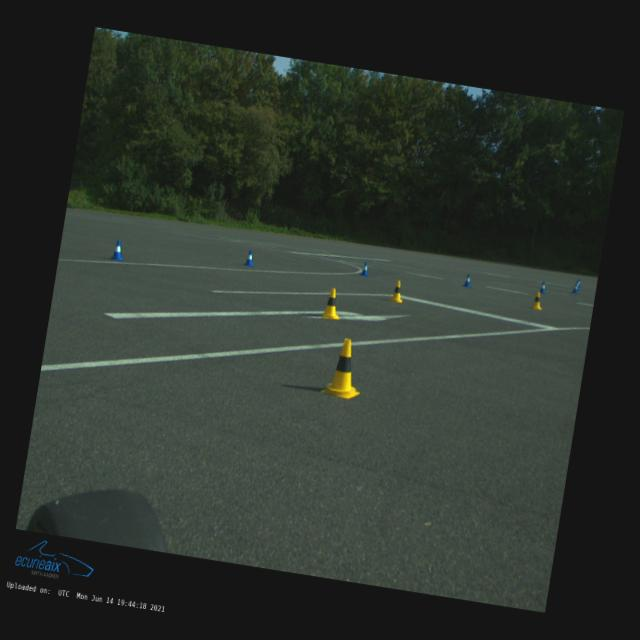blue_cone: (110, 240, 128, 262), (244, 250, 256, 267), (360, 262, 370, 277), (463, 274, 473, 288), (540, 282, 547, 294), (574, 281, 580, 291), (572, 284, 578, 294), (578, 279, 582, 287)
yellow_cone: (321, 336, 367, 401), (321, 288, 344, 321), (390, 280, 406, 304), (530, 291, 544, 311)
